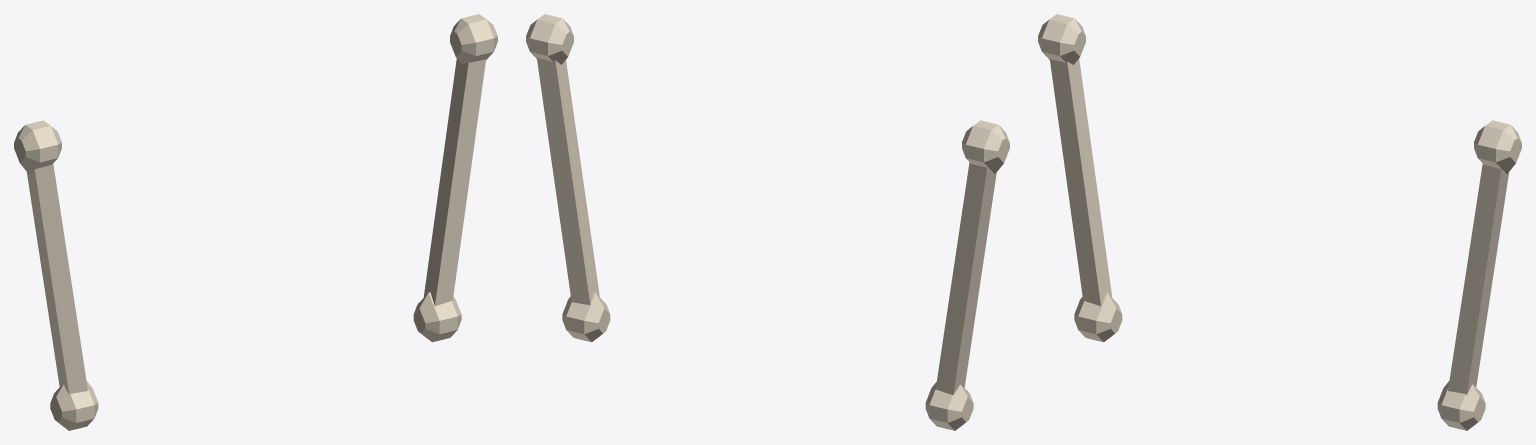
File: Cliff_Prop_Bridge_Rope_Middle_Support.glb
The picture shows the model from 3 angles, left to right: view 1: azimuth 30°, elevation 25°; view 2: azimuth 150°, elevation 25°; view 3: azimuth 330°, elevation 25°; orthographic projection.
Visible parts, largest first — view 1: Cliff_Prop_Bridge_Rope_Middle_Support; view 2: Cliff_Prop_Bridge_Rope_Middle_Support; view 3: Cliff_Prop_Bridge_Rope_Middle_Support.
Boxes of the visible parts, box(x1,y1,x2,y2) form: Cliff_Prop_Bridge_Rope_Middle_Support: box(14, 14, 497, 430); Cliff_Prop_Bridge_Rope_Middle_Support: box(526, 14, 1009, 430); Cliff_Prop_Bridge_Rope_Middle_Support: box(1038, 14, 1521, 430).
Bounding box in the file's own units: 1.3 × 0.8147 × 0.1061.
